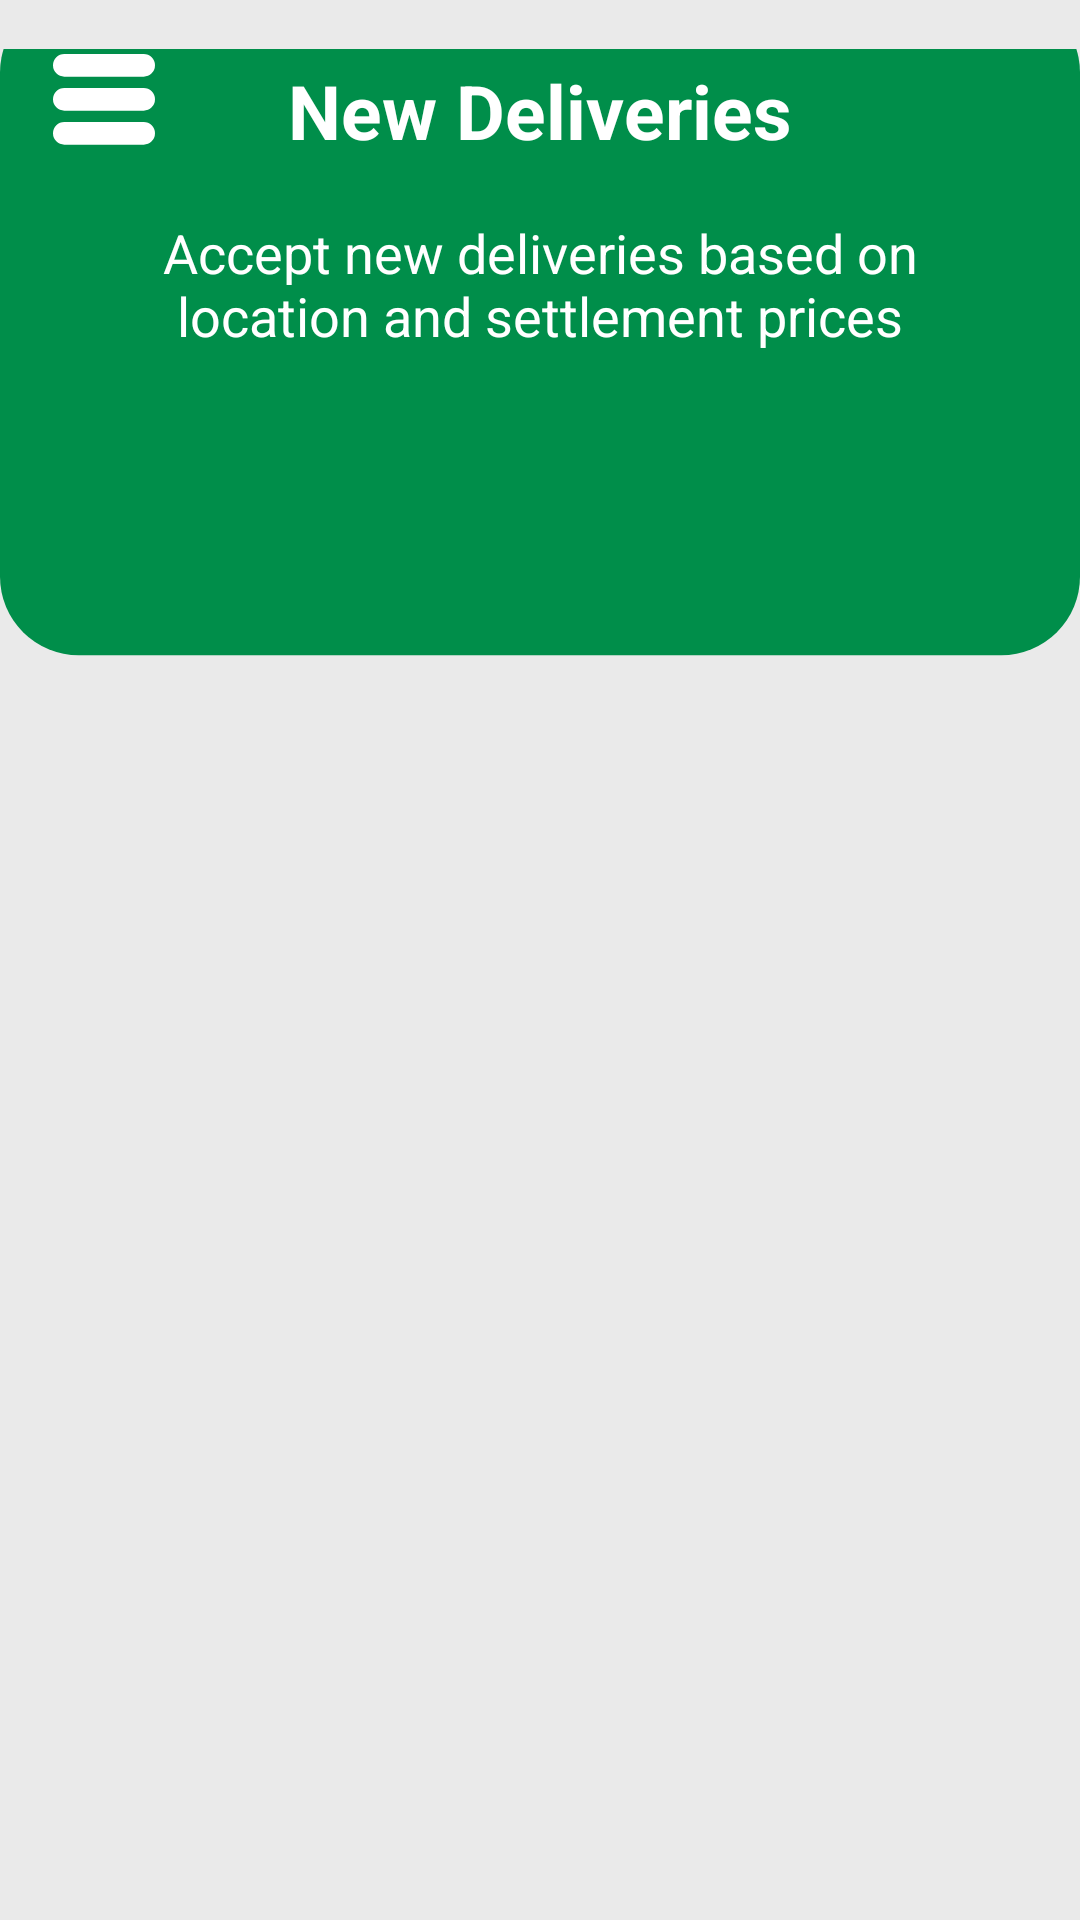

Locate icon controls on the screen. Image size 1080x1920, boxes as [x1, y1, x2, y2].
hamburger: [53, 54, 155, 145]
